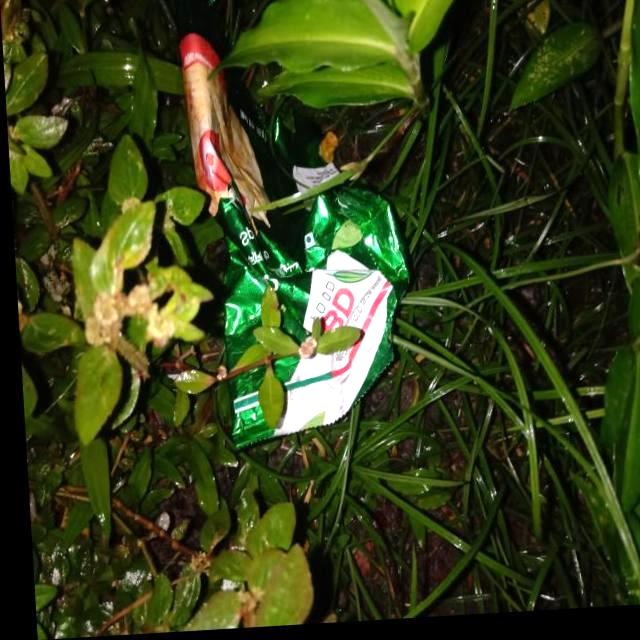packet: (176, 9, 409, 464)
